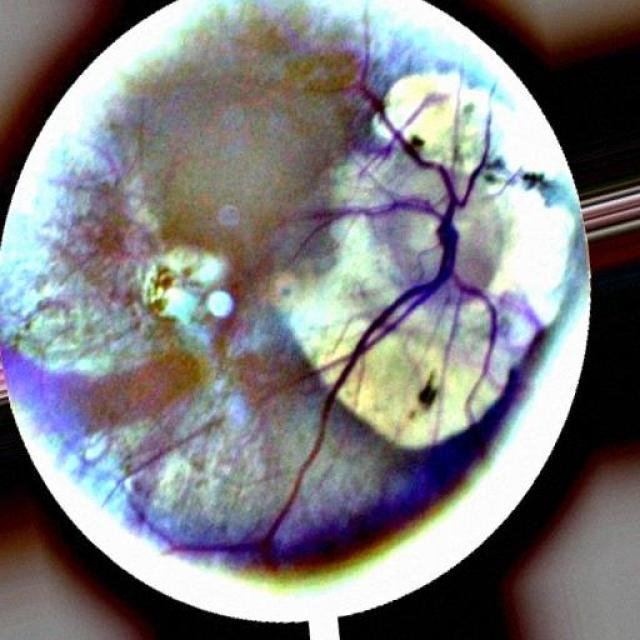Nerves: (263, 284, 424, 550), (365, 83, 457, 196), (294, 198, 442, 251)
Optic Disk: (374, 166, 504, 306)
